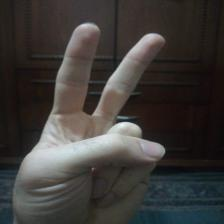two: (29, 20, 168, 217)
